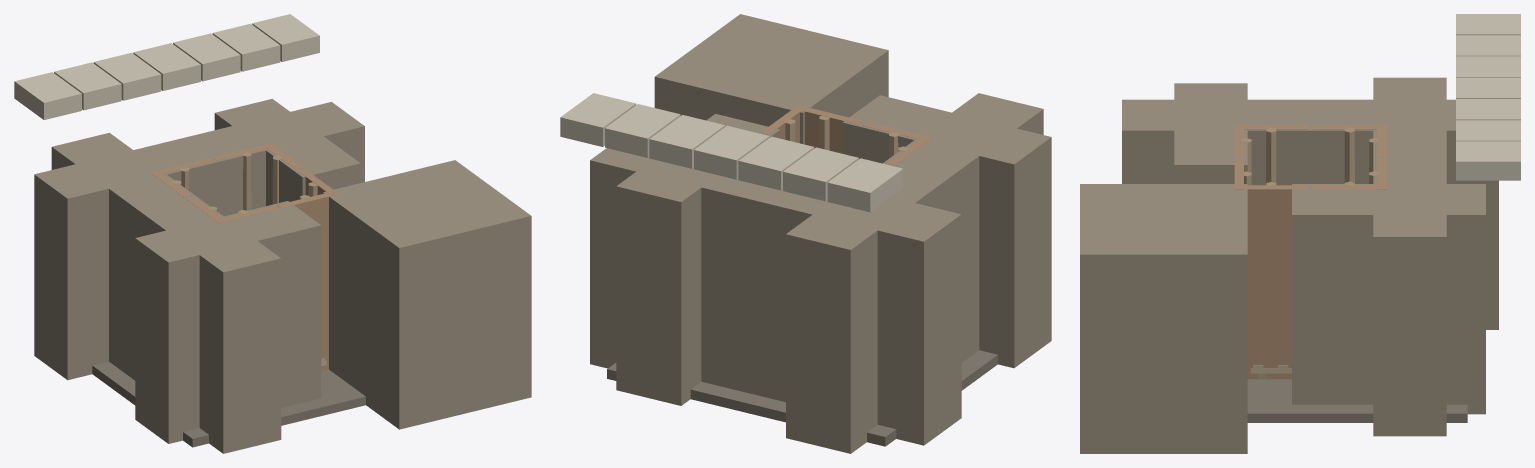
Rendered from trench-line-1917-traverse-corner-f55dcce6__24039.glb.
The picture shows the model from 3 angles, left to right: view 1: azimuth 30°, elevation 25°; view 2: azimuth 150°, elevation 25°; view 3: azimuth 270°, elevation 25°; orthographic projection. The views are drawn at different scales.
Parts seen in each view (by area): view 1: traverse-corner; view 2: traverse-corner; view 3: traverse-corner.
Part boxes in pixels (x1,y1,x2,y2): traverse-corner: (14,14,531,453); traverse-corner: (560,14,1051,453); traverse-corner: (1080,14,1520,453).
Bounding box in the file's own units: 4 × 2.85 × 4.21.
